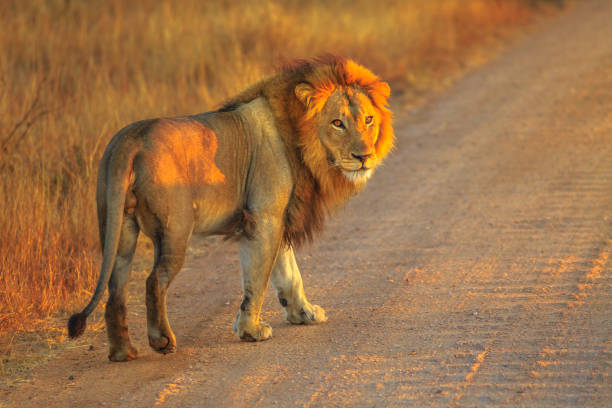lion: (257, 41, 415, 237)
